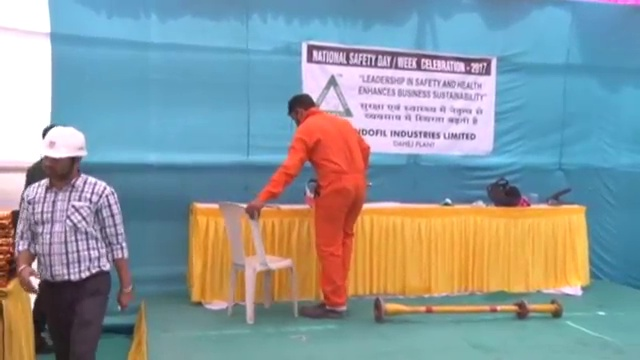helmet: (40, 123, 89, 161)
helmet_off: (286, 93, 318, 128)
helmet_on: (39, 123, 89, 184)
person: (248, 93, 375, 328), (14, 122, 133, 360)
